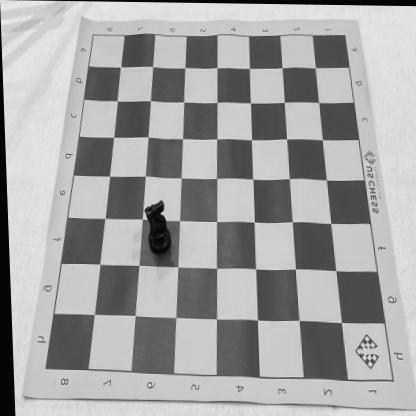black-knight: (142, 200, 170, 257)
